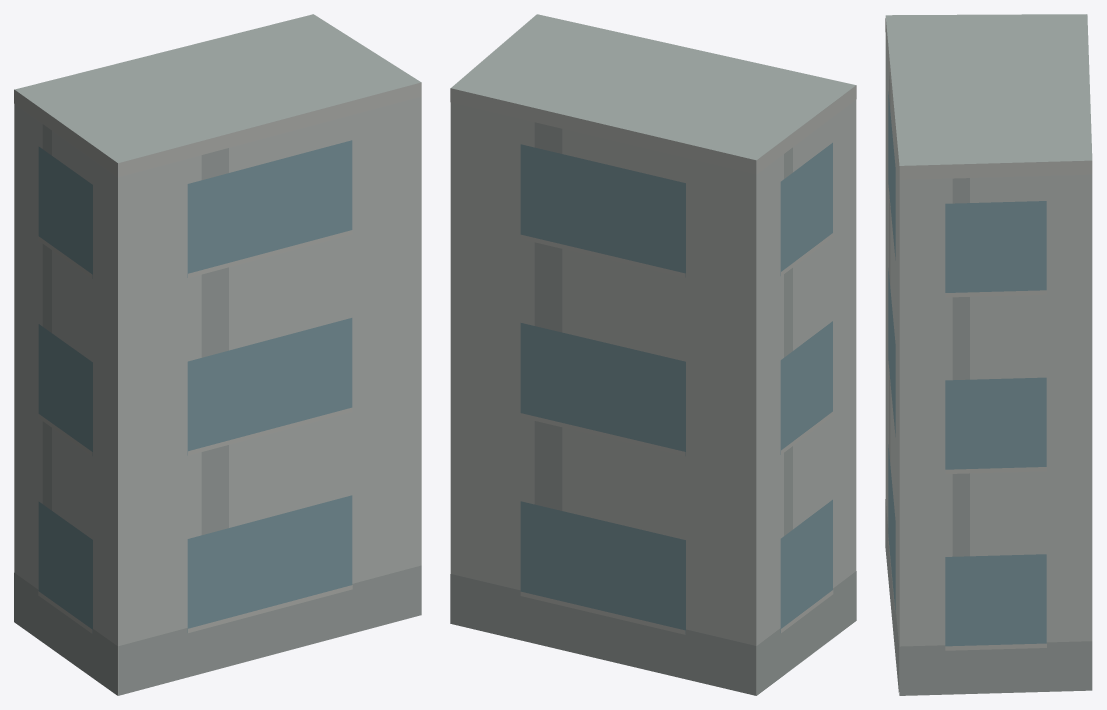
File: survey-upis-32582168.glb
3 views of the same model, side by side, from view 1: azimuth 30°, elevation 25°; view 2: azimuth 150°, elevation 25°; view 3: azimuth 270°, elevation 25° (orthographic).
Visible parts, largest first — view 1: survey-upis-32582168.tmp; view 2: survey-upis-32582168.tmp; view 3: survey-upis-32582168.tmp.
Boxes of the visible parts, x1,y1,x2,y2 form: survey-upis-32582168.tmp: [14, 14, 421, 695]; survey-upis-32582168.tmp: [450, 14, 856, 695]; survey-upis-32582168.tmp: [885, 14, 1092, 695].
Size of the model in its own units: 5.63 by 9.15 by 3.25.
